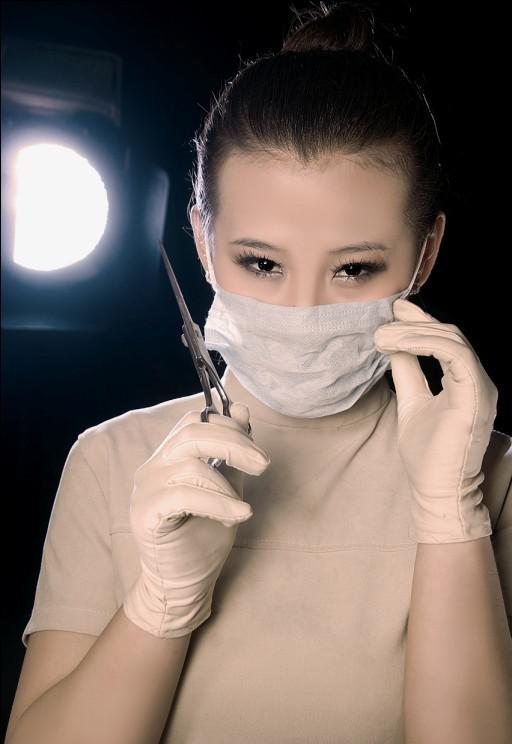OK: (220, 229, 402, 411)
